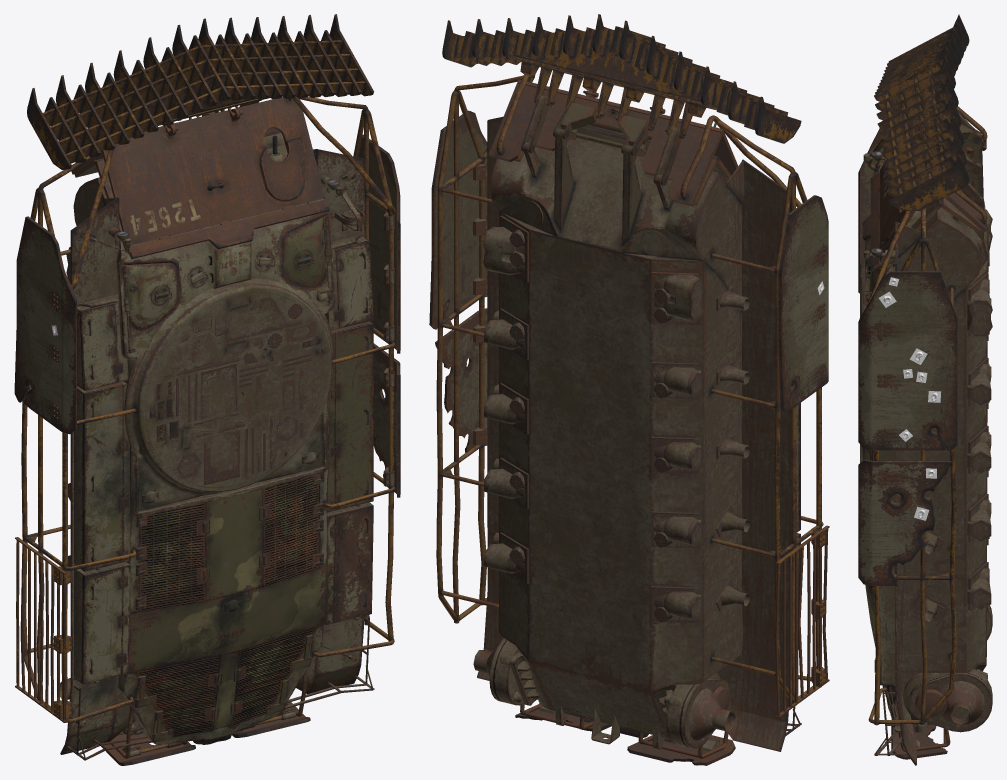
Rendered from Hull_03.glb.
3 views of the same model, side by side, from view 1: azimuth 30°, elevation 25°; view 2: azimuth 150°, elevation 25°; view 3: azimuth 270°, elevation 25° (orthographic). The views are drawn at different scales.
Visible parts, largest first — view 1: set_0_group_0, set_0_group_1; view 2: set_0_group_0, set_0_group_1; view 3: set_0_group_1, set_0_group_0, set_0_group_2.
Part boxes in pixels (x1,y1,x2,y2): set_0_group_0: (60, 97, 374, 760); set_0_group_1: (14, 14, 400, 765); set_0_group_0: (473, 79, 801, 751); set_0_group_1: (429, 14, 829, 765); set_0_group_1: (858, 14, 987, 759); set_0_group_0: (860, 126, 992, 765); set_0_group_2: (878, 277, 940, 520).
Bounding box in the file's own units: 3.71 × 7.3 × 1.34.
3 materials, 2 textured.
